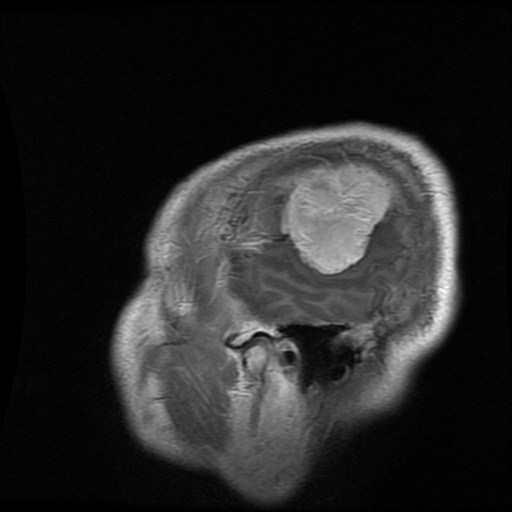meningioma: (275, 161, 396, 274)
